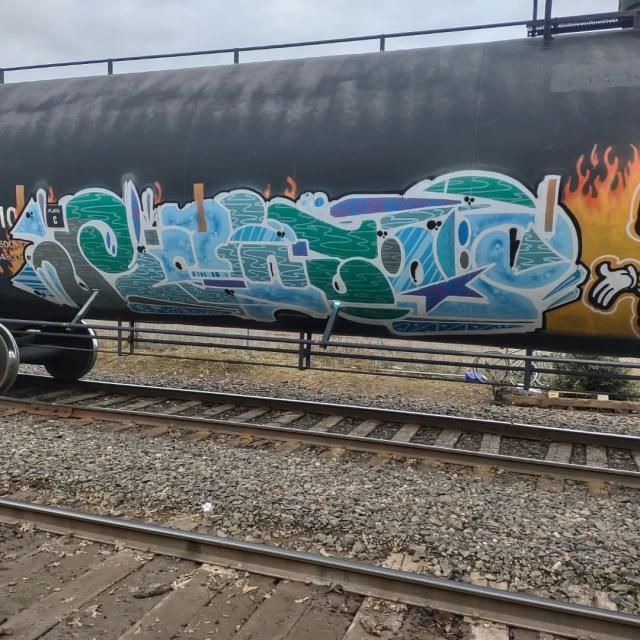-: (0, 176, 593, 336)
